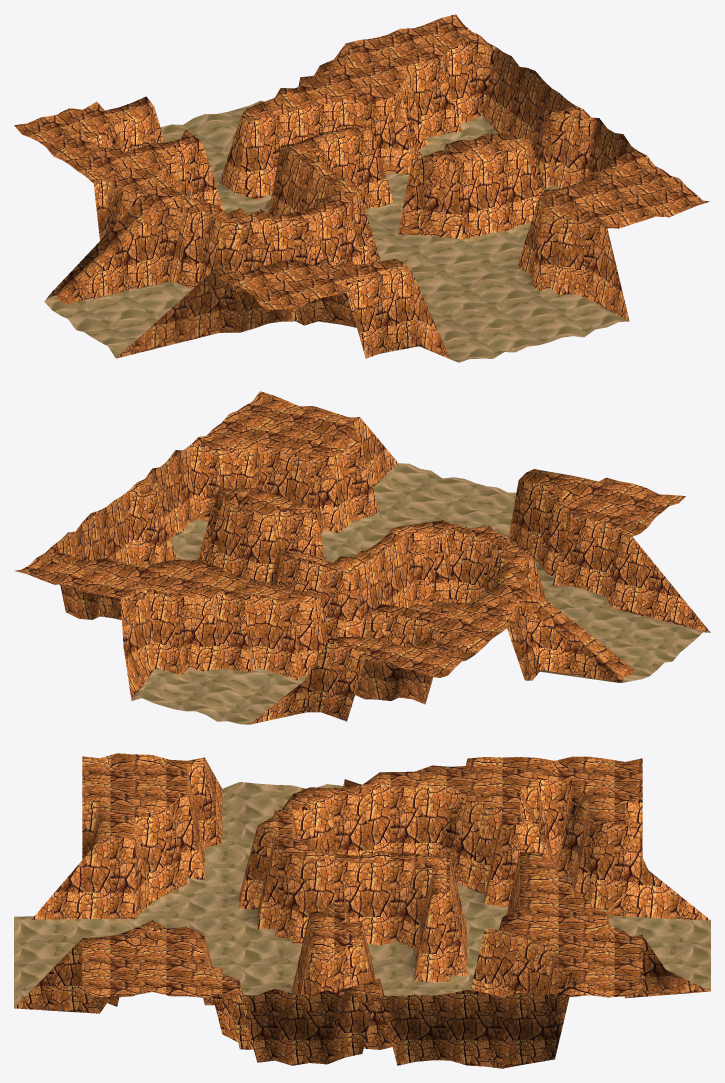
File: MH_Stage1-2.fbx
3 renders of one model, top to bottom at view 1: azimuth 30°, elevation 25°; view 2: azimuth 150°, elevation 25°; view 3: azimuth 270°, elevation 25°, orthographic. The views are drawn at different scales.
Visible parts, largest first — view 1: Plane001; view 2: Plane001; view 3: Plane001.
Boxes of the visible parts, x1=… form: Plane001: x1=14, y1=14, x2=710, y2=362; Plane001: x1=15, y1=391, x2=710, y2=724; Plane001: x1=14, y1=753, x2=710, y2=1068.
Size of the model in its own units: 9522 by 9854 by 1368.
Materials: 2 (2 with a texture image).
